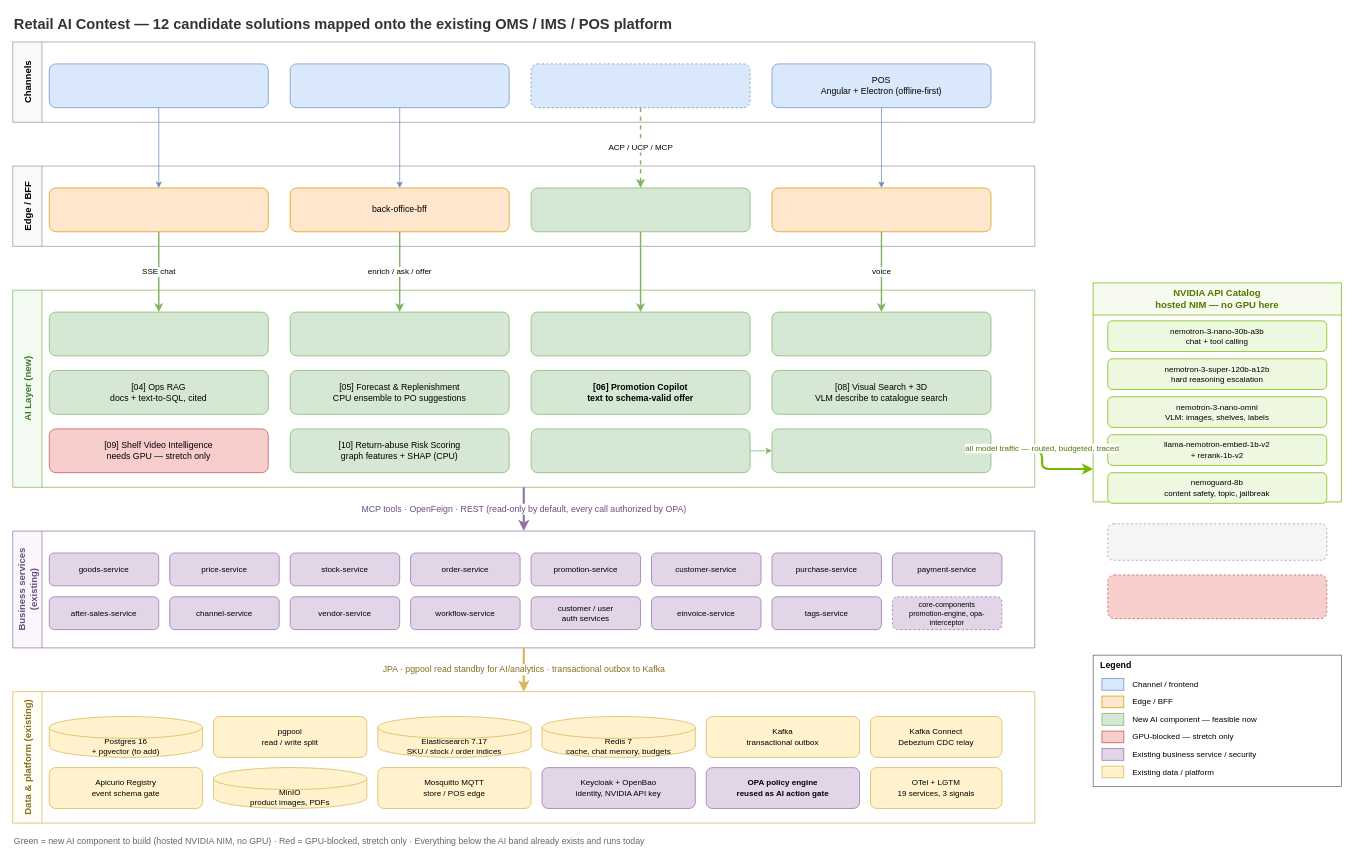
Some shapes in this 1354 by 861 pixel diagram are drawn without their labels. The shapes that lost their labels are listed below. From the top down, each one's centre as x and y in pixels, then its label:
the point at 158,85: Storefront Angular SSR
the point at 399,85: Back-office Angular SPA
the point at 640,85: External AI Agents ChatGPT / Claude / procurement bots
the point at 158,209: ecommerce-bff
the point at 640,209: ACP / UCP / MCP surface new endpoints in ecommerce-bff
the point at 881,209: pos-service + pos-offline-service
the point at 158,333: [01] Retail Copilot ai-service · Spring AI MCP + ChatClient
the point at 399,333: [02] Catalog Enrichment image to SKU draft + compliance
the point at 640,333: [03] Agentic Commerce ACP checkout + UCP A2A
the point at 881,333: [07] Voice POS Pipecat · ASR / TTS (VI risk)
the point at 640,450: [12] Guardrails + OPA action gate
the point at 881,450: [11] LLM Router + cost governance
the point at 1217,541: parakeet ASR / magpie TTS used only by [07]
the point at 1217,596: GPU-only, NOT used: FLUX · TRELLIS · NV-CLIP · VSS CV pipeline · GNN training
